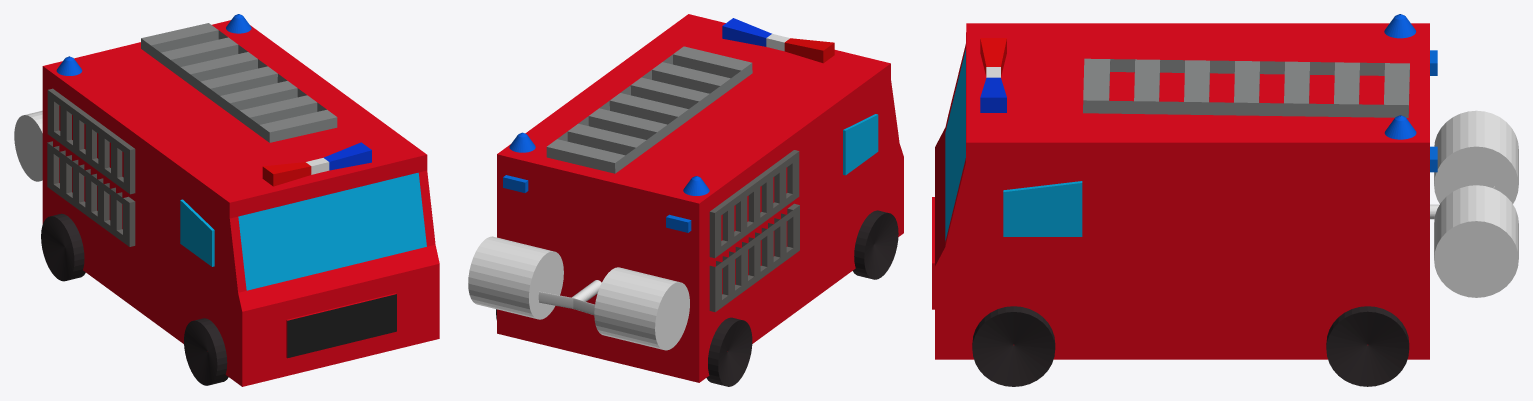
Rendered from firecartrafik.fbx.
3 renders of one model, left to right at view 1: azimuth 30°, elevation 25°; view 2: azimuth 150°, elevation 25°; view 3: azimuth 270°, elevation 25°, orthographic. The views are drawn at different scales.
Parts seen in each view (by area): view 1: araba, merdiven, merdiven.001, sagark, sagon, kırmızı mavı ışık, hortumlar, Cube, lambalar; view 2: araba, hortumlar, merdiven, merdiven.001, sagark, sagon, kırmızı mavı ışık, Cube, lambalar, arka far; view 3: araba, hortumlar, merdiven, solon, solark, Cube, kırmızı mavı ışık, lambalar.
Part boxes in pixels (box(x1,y1,x2,y2)): araba: box(42, 20, 439, 386); merdiven: box(141, 23, 337, 142); merdiven.001: box(47, 88, 135, 246); sagark: box(41, 213, 85, 281); sagon: box(184, 318, 228, 385); kırmızı mavı ışık: box(262, 142, 371, 186); hortumlar: box(14, 110, 42, 181); Cube: box(180, 199, 214, 266); lambalar: box(56, 14, 251, 75); araba: box(497, 14, 903, 382); hortumlar: box(468, 236, 689, 350); merdiven: box(546, 46, 752, 173); merdiven.001: box(709, 150, 799, 312); sagark: box(706, 317, 752, 386); sagon: box(853, 210, 898, 279); kırmızı mavı ışık: box(722, 18, 834, 63); Cube: box(843, 114, 878, 175); lambalar: box(509, 132, 709, 195); arka far: box(503, 175, 691, 232); araba: box(932, 23, 1429, 359); hortumlar: box(1430, 110, 1518, 297); merdiven: box(1083, 58, 1409, 117); solon: box(972, 306, 1055, 386); solark: box(1326, 306, 1409, 386); Cube: box(1003, 181, 1082, 236); kırmızı mavı ışık: box(980, 38, 1006, 112); lambalar: box(1384, 14, 1416, 139).
Bounding box in the file's own units: 439 × 402 × 830.
